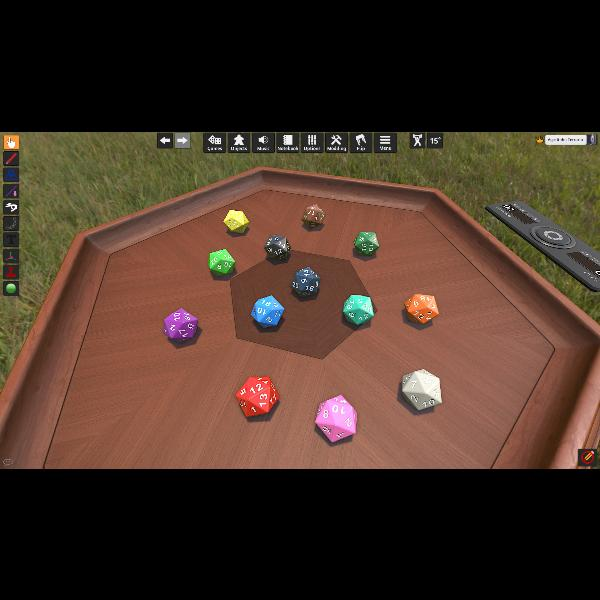d20: (316, 393, 357, 440), (236, 375, 280, 415), (400, 369, 438, 409), (164, 308, 199, 342), (251, 295, 284, 327), (406, 293, 438, 323), (343, 294, 373, 324), (292, 266, 320, 296), (264, 235, 290, 260), (208, 250, 232, 276), (352, 232, 378, 256), (302, 204, 326, 228), (224, 210, 248, 232)
